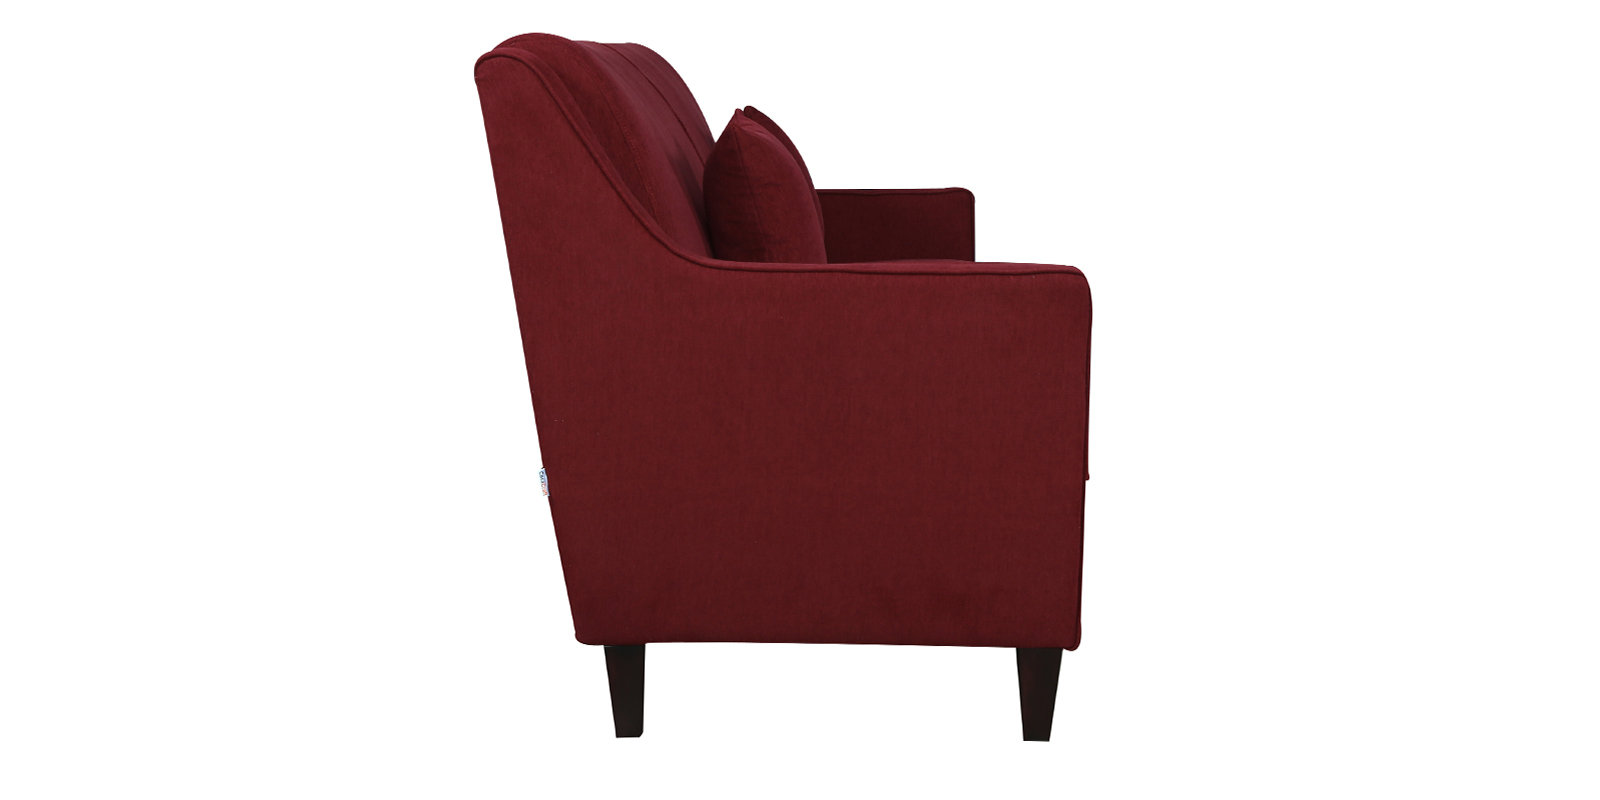Oscar Three Seater Sofa in Garnet Red Colour by CasaCraft: (472, 29, 1092, 742)
